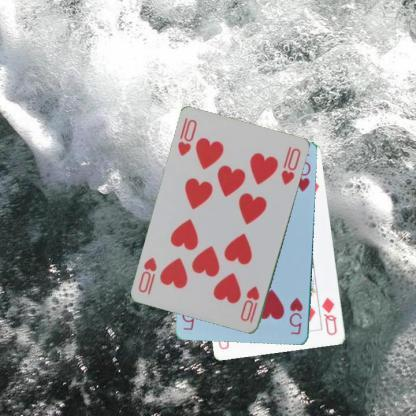10h: (175, 116, 198, 158), (238, 284, 261, 324)
5h: (286, 296, 304, 336)
Qd: (319, 295, 339, 337)
